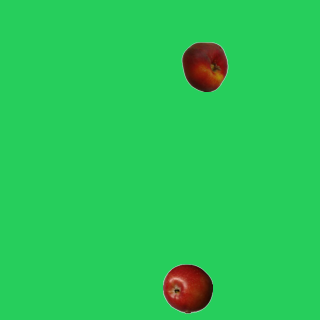Apple Braeburn: (162, 263, 212, 313)
Nectarine Flat: (179, 41, 229, 91)
